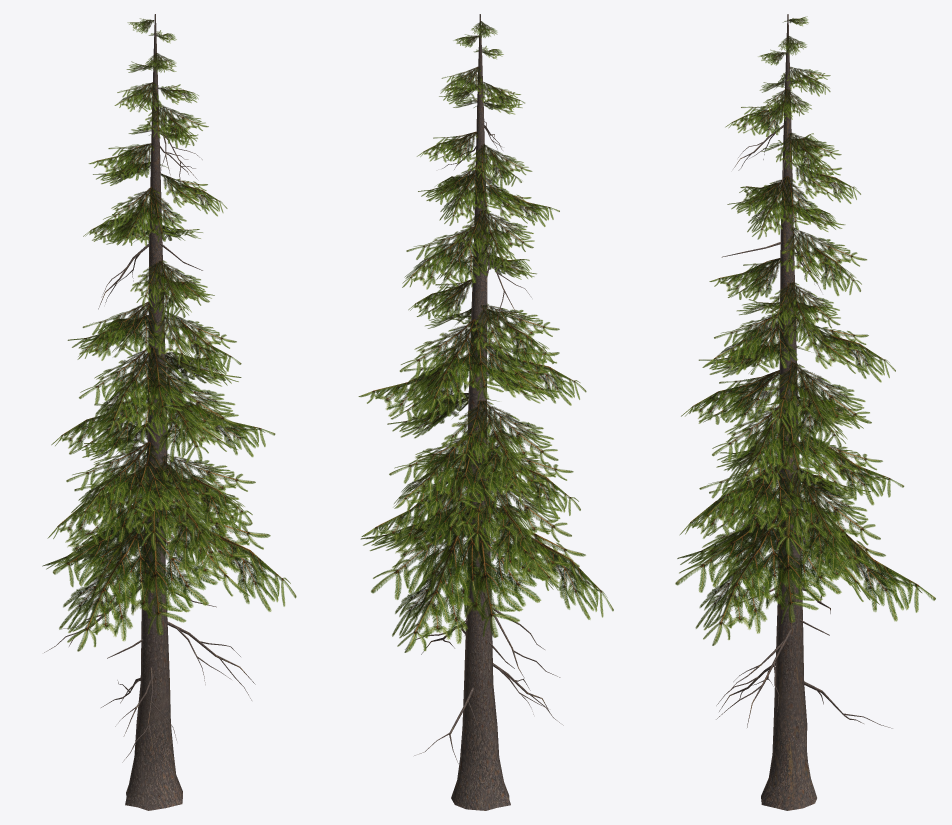
The picture shows the model from 3 angles, left to right: view 1: azimuth 30°, elevation 25°; view 2: azimuth 150°, elevation 25°; view 3: azimuth 270°, elevation 25°; orthographic projection.
Parts seen in each view (by area): view 1: Circle.002, Plane.009, Plane.020, Plane.015, Plane.008, Plane.011, Plane.017, Plane.014, Plane.022, Plane.012, Plane.028, Plane.023 (+14 smaller); view 2: Circle.002, Plane.007, Plane.012, Plane.021, Plane.018, Plane.013, Plane.009, Plane.010, Plane.023, Plane.024, Plane.015, Plane.026 (+14 smaller); view 3: Circle.002, Plane.008, Plane.010, Plane.016, Plane.019, Plane.007, Plane.014, Plane.022, Plane.013, Plane.024, Plane.030, Plane.027 (+16 smaller).
Boxes of the visible parts, x1=… form: Circle.002: x1=125, y1=14, x2=182, y2=810; Plane.009: x1=51, y1=503, x2=217, y2=651; Plane.020: x1=79, y1=346, x2=201, y2=434; Plane.015: x1=66, y1=441, x2=180, y2=525; Plane.008: x1=167, y1=504, x2=296, y2=611; Plane.011: x1=126, y1=469, x2=250, y2=571; Plane.017: x1=122, y1=373, x2=238, y2=463; Plane.014: x1=152, y1=453, x2=255, y2=532; Plane.022: x1=154, y1=310, x2=241, y2=376; Plane.012: x1=47, y1=469, x2=149, y2=544; Plane.028: x1=103, y1=186, x2=186, y2=245; Plane.023: x1=77, y1=301, x2=162, y2=360; Circle.002: x1=451, y1=14, x2=510, y2=810; Plane.007: x1=371, y1=504, x2=547, y2=652; Plane.012: x1=449, y1=472, x2=571, y2=576; Plane.021: x1=399, y1=319, x2=522, y2=412; Plane.018: x1=442, y1=400, x2=558, y2=493; Plane.013: x1=389, y1=436, x2=505, y2=515; Plane.009: x1=490, y1=503, x2=613, y2=619; Plane.010: x1=361, y1=470, x2=471, y2=552; Plane.023: x1=472, y1=303, x2=559, y2=370; Plane.024: x1=402, y1=226, x2=487, y2=289; Plane.015: x1=483, y1=442, x2=580, y2=518; Plane.026: x1=454, y1=210, x2=534, y2=272; Circle.002: x1=761, y1=14, x2=816, y2=810; Plane.008: x1=675, y1=504, x2=850, y2=645; Plane.010: x1=760, y1=472, x2=880, y2=576; Plane.016: x1=755, y1=360, x2=871, y2=452; Plane.019: x1=712, y1=402, x2=835, y2=487; Plane.007: x1=801, y1=504, x2=935, y2=621; Plane.014: x1=697, y1=456, x2=801, y2=528; Plane.022: x1=704, y1=311, x2=797, y2=374; Plane.013: x1=795, y1=434, x2=904, y2=505; Plane.024: x1=781, y1=227, x2=866, y2=295; Plane.030: x1=737, y1=176, x2=820, y2=239; Plane.027: x1=761, y1=282, x2=840, y2=346.
Size of the model in its own units: 10.3 by 29.89 by 10.16.
Materials: 2 (2 with a texture image).
